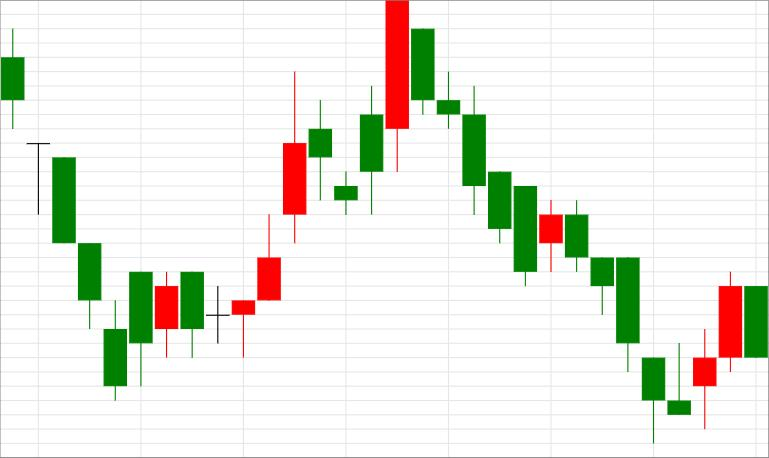hammer_rise: (411, 28, 664, 443)
